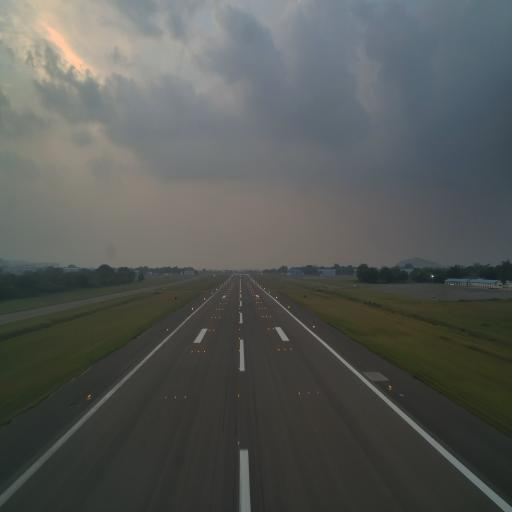on: (236, 439, 241, 448), (87, 392, 91, 402), (297, 390, 302, 397), (388, 383, 392, 391), (237, 392, 241, 400), (306, 389, 310, 397), (183, 395, 187, 402), (164, 394, 168, 400), (316, 388, 319, 395), (190, 349, 193, 355), (197, 350, 200, 354), (238, 348, 241, 352), (289, 347, 292, 351), (174, 395, 176, 400), (283, 348, 286, 351), (238, 366, 240, 370), (203, 350, 205, 354), (278, 348, 280, 352), (238, 338, 240, 340)
